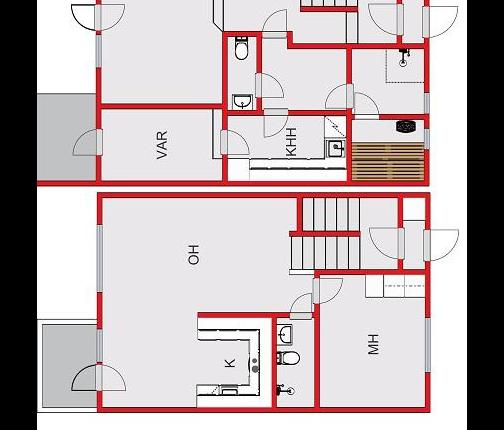door: (367, 222, 408, 261), (420, 225, 460, 264), (419, 2, 460, 39), (366, 0, 406, 37), (71, 124, 105, 158), (69, 360, 104, 393), (95, 359, 128, 393), (252, 69, 286, 101), (350, 88, 381, 122), (68, 0, 100, 32), (310, 274, 344, 304), (260, 6, 288, 42), (323, 80, 356, 110), (95, 1, 126, 32), (260, 106, 290, 138), (220, 127, 252, 157), (288, 290, 314, 322)
window: (92, 220, 106, 294), (422, 314, 432, 374), (92, 31, 106, 69), (92, 326, 106, 364), (422, 90, 432, 114), (422, 126, 431, 150)
